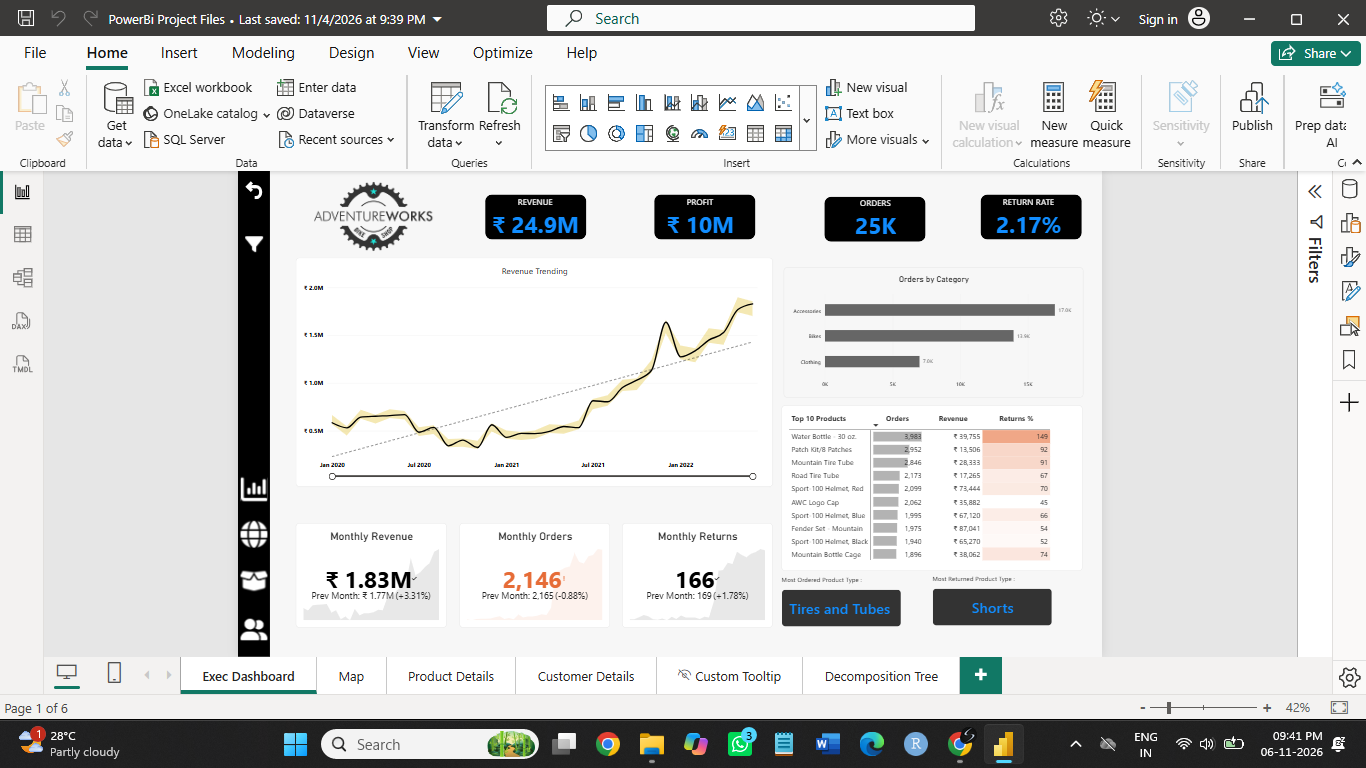

The page's visual inventory and layout, read from the dashboard file:
{"tool":"powerbi","page":{"name":"Exec Dashboard","canvas":[1920,1080],"ordinal":0},"visuals":[{"type":"image","title":"AW Logo","box":[140.4,9.5,322.8,183.3],"z":0},{"type":"cardVisual","fields":{"Data":["Measure Table.Total Revenue"]},"box":[499.6,28.6,323,150],"z":0,"group":"g2"},{"type":"group","id":"g1","title":"KPI Backgrounds","box":[549.6,52.4,1327.1,103.9],"z":0,"group":"g3"},{"type":"shape","box":[1651.7,52.4,225,100],"z":0,"group":"g1"},{"type":"actionButton","box":[0,663.8,71.4,88],"z":0,"group":"g4"},{"type":"shape","title":"Left Nav Background","box":[0,0,71.4,1080.2],"z":1000},{"type":"group","id":"g2","title":"KPI Values","box":[499.6,28.6,1419.8,152.4],"z":1000,"group":"g3"},{"type":"cardVisual","fields":{"Data":["Measure Table.Total Profit"]},"box":[865.2,28.6,323,150],"z":1000,"group":"g2"},{"type":"shape","box":[549.6,52.9,225,100],"z":1000,"group":"g1"},{"type":"actionButton","box":[0,768.5,71.4,78.5],"z":1000,"group":"g4"},{"type":"group","id":"g3","title":"KPIs","box":[499.6,28.6,1419.8,152.4],"z":2000},{"type":"cardVisual","fields":{"Data":["Measure Table.Total Orders"]},"box":[1256.2,31,323,150],"z":2000,"group":"g2"},{"type":"shape","box":[925.5,52.9,225,100],"z":2000,"group":"g1"},{"type":"actionButton","box":[0,863.7,71.4,95.2],"z":2000,"group":"g4"},{"type":"cardVisual","fields":{"Data":["Measure Table.Return Rate"]},"box":[1596.4,28.6,323,150],"z":3000,"group":"g2"},{"type":"shape","box":[1304.8,56.3,225,100],"z":3000,"group":"g1"},{"type":"lineChart","title":"Revenue Trending","fields":{"Category":["Calendar Lookup.Start of month"],"Y":["Measure Table.Total Revenue"]},"box":[128.5,192.7,1061.2,509.2],"z":3000},{"type":"actionButton","box":[0,975.5,71.4,88],"z":3000,"group":"g4"},{"type":"kpi","title":"Monthly Revenue","fields":{"Goal":["Measure Table.Previous Month Revenue"],"Indicator":["Measure Table.Total Revenue"],"TrendLine":["Calendar Lookup.Start of month"]},"box":[128.5,782.8,335.5,233.2],"z":4000},{"type":"kpi","title":"Monthly Orders","fields":{"Goal":["Measure Table.Previous Month Orders"],"Indicator":["Measure Table.Total Orders"],"TrendLine":["Calendar Lookup.Start of month"]},"box":[491.6,782.8,335,233.2],"z":5000},{"type":"kpi","title":"Monthly Returns","fields":{"Goal":["Measure Table.Previous Month Returns"],"Indicator":["Measure Table.Total Returns"],"TrendLine":["Calendar Lookup.Start of month"]},"box":[854.2,782.8,335,233.2],"z":6000},{"type":"clusteredBarChart","title":"Orders by Category","fields":{"Category":["Product Categories Lookup.CategoryName"],"Y":["Measure Table.Total Orders"]},"box":[1213.4,214.1,666.7,290],"z":7000},{"type":"pivotTable","fields":{"Rows":["Product Lookup.ProductName"],"Values":["Measure Table.Total Orders","Measure Table.Total Revenue","Measure Table.Total Returns"]},"box":[1208.5,520.3,669.5,367.8],"z":8000},{"type":"cardVisual","fields":{"Data":["Min(Product Subcategories Lookup.SubcategoryName)"]},"box":[1208.2,931.1,266.1,83.1],"z":9000},{"type":"textbox","box":[1208.2,900,193.4,23],"z":10000},{"type":"cardVisual","fields":{"Data":["Min(Product Subcategories Lookup.SubcategoryName)"]},"box":[1543,927.4,266.1,83.1],"z":11000},{"type":"textbox","box":[1543,896.2,193.4,23],"z":12000},{"type":"actionButton","box":[0,0,71.4,85.7],"z":13000},{"type":"group","id":"g4","title":"Navigation Buttons","box":[0,663.8,71.4,399.7],"z":14000},{"type":"actionButton","box":[0,111.8,71.4,102.3],"z":15000}]}

Visuals, with their boxes on the page's 1920x1080 design canvas (x1, y1, x2, y2). These are canvas units, not pixel positions in the 1366x768 screenshot, which may show the page scaled, cropped or inside an application window:
"AW Logo" image: 140,10,463,193
cardVisual - Measure Table.Total Revenue: 500,29,823,179
"KPI Backgrounds" group: 550,52,1877,156
shape: 1652,52,1877,152
actionButton: 0,664,71,752
"Left Nav Background" shape: 0,0,71,1080
"KPI Values" group: 500,29,1919,181
cardVisual - Measure Table.Total Profit: 865,29,1188,179
shape: 550,53,775,153
actionButton: 0,768,71,847
"KPIs" group: 500,29,1919,181
cardVisual - Measure Table.Total Orders: 1256,31,1579,181
shape: 926,53,1150,153
actionButton: 0,864,71,959
cardVisual - Measure Table.Return Rate: 1596,29,1919,179
shape: 1305,56,1530,156
"Revenue Trending" lineChart: 128,193,1190,702
actionButton: 0,976,71,1064
"Monthly Revenue" kpi: 128,783,464,1016
"Monthly Orders" kpi: 492,783,827,1016
"Monthly Returns" kpi: 854,783,1189,1016
"Orders by Category" clusteredBarChart: 1213,214,1880,504
pivotTable - Product Lookup.ProductName x Measure Table.Total Orders: 1208,520,1878,888
cardVisual - Min(Product Subcategories Lookup.SubcategoryName): 1208,931,1474,1014
textbox: 1208,900,1402,923
cardVisual - Min(Product Subcategories Lookup.SubcategoryName): 1543,927,1809,1010
textbox: 1543,896,1736,919
actionButton: 0,0,71,86
"Navigation Buttons" group: 0,664,71,1064
actionButton: 0,112,71,214
